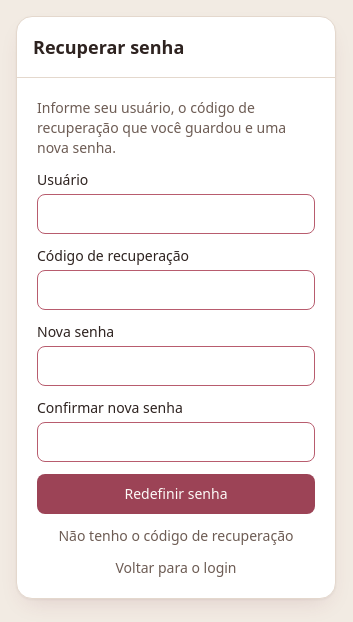
Test: RecoverPasswordPage › shows the freshly-rotated recovery code on success, not the old one
In the field labelled "Usuário": (176, 214) [37,194,315,234], type "ana"
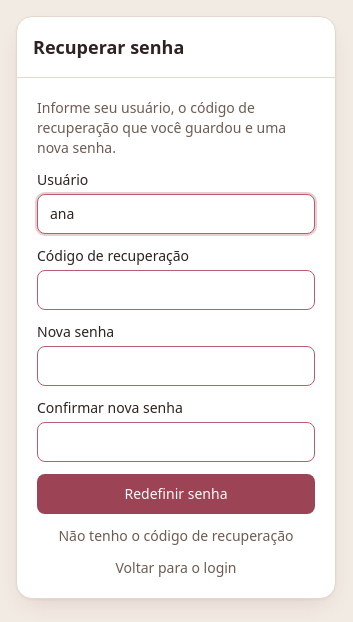
In the field labelled "Código de recuperação": (176, 290) [37,270,315,310], type "ABCD-EFGH-JKMN-PQRS"
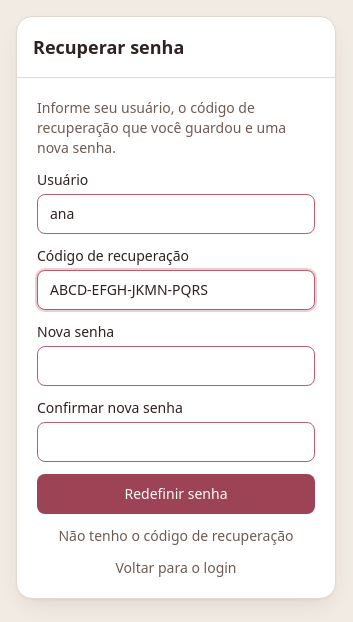
In the password field labelled "Nova senha": (176, 366) [37,346,315,386], type "brand-new-password"
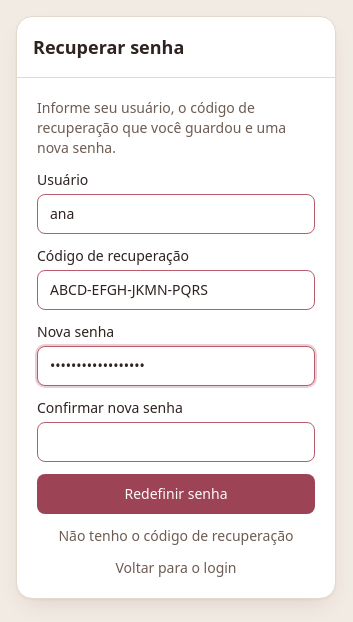
In the password field labelled "Confirmar nova senha": (176, 442) [37,422,315,462], type "brand-new-password"
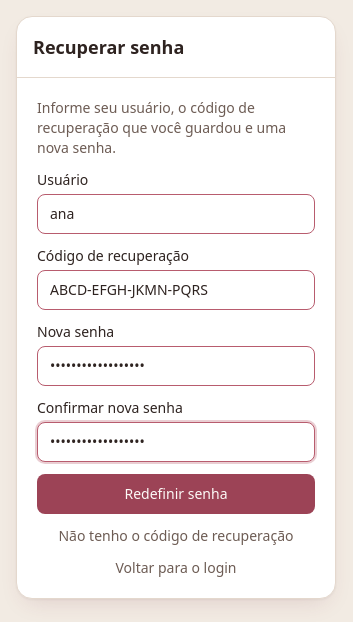
Click the button "Redefinir senha": (176, 494) [37,474,315,514]
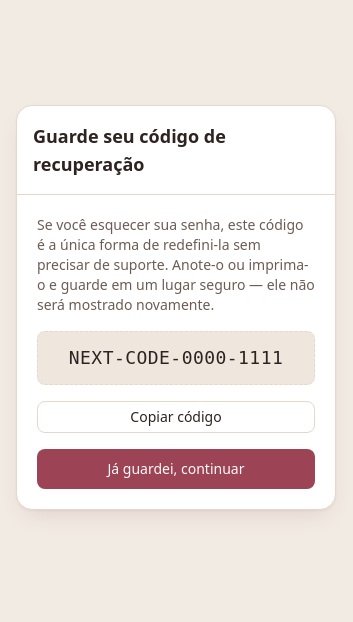
Check: the text "ABCD-EFGH-JKMN-PQRS" is not shown
Check: the text "NEXT-CODE-0000-1111" is shown, box [37,330,315,384]
